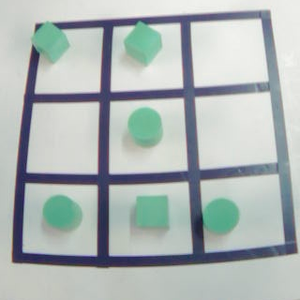cube: (119, 18, 173, 69), (25, 17, 79, 67), (130, 186, 177, 235)
cylinder: (118, 103, 174, 154), (194, 190, 247, 238), (37, 189, 90, 235)
empty: (187, 88, 284, 176), (23, 94, 108, 182), (185, 14, 274, 93)
